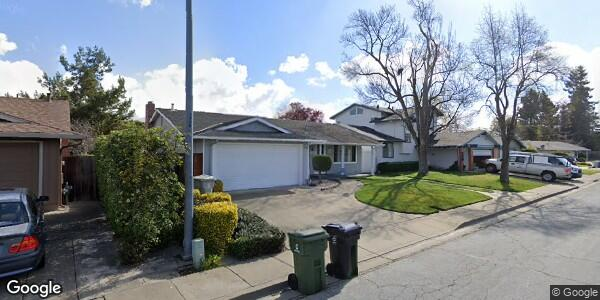Steel_Pole: (178, 1, 206, 276)
